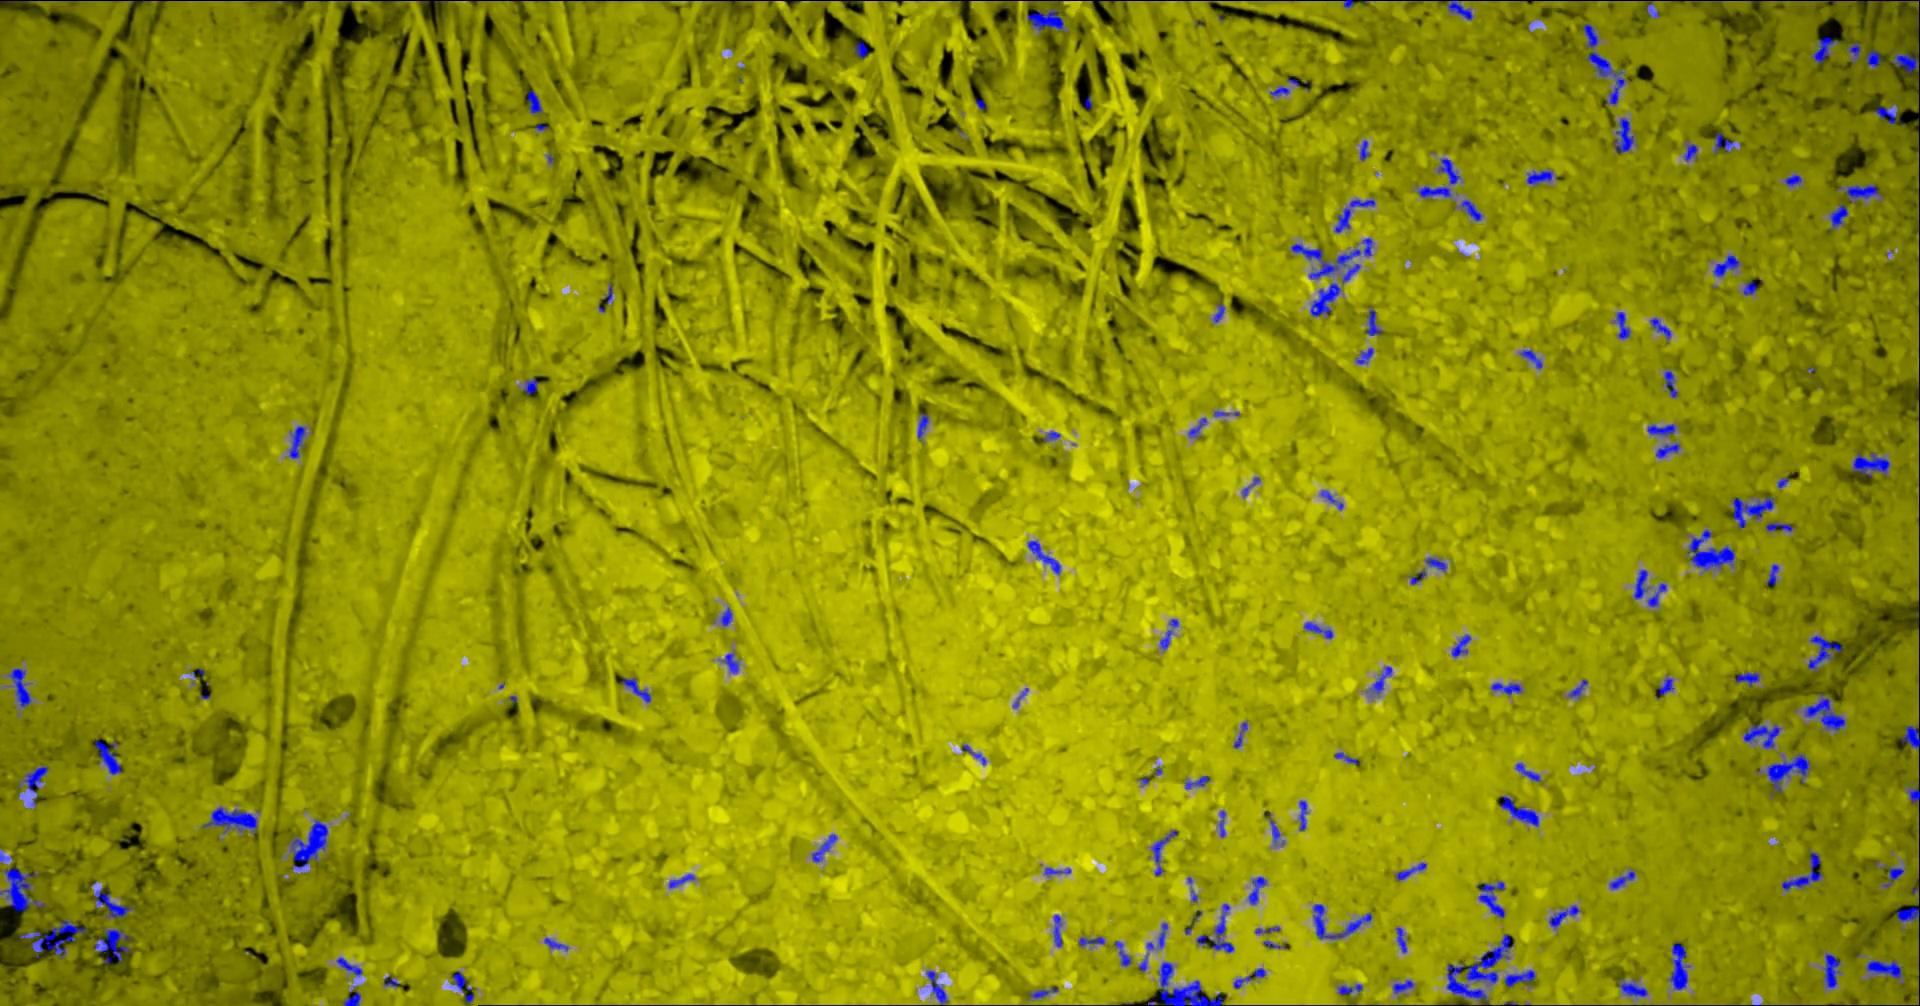ant: (1290, 238, 1371, 283), (1582, 23, 1625, 105), (18, 920, 85, 956), (1312, 903, 1371, 939), (1688, 528, 1735, 572), (0, 868, 44, 911), (290, 819, 328, 869), (1765, 754, 1810, 795), (1196, 903, 1233, 951), (1782, 851, 1822, 890), (1803, 694, 1845, 730), (202, 807, 257, 833), (1731, 495, 1774, 528), (1335, 199, 1375, 232), (1807, 635, 1843, 671), (94, 929, 130, 963), (1498, 795, 1538, 826), (91, 889, 133, 917), (1150, 829, 1176, 875), (1027, 540, 1060, 574), (1669, 941, 1690, 989), (1851, 451, 1890, 478), (1477, 880, 1503, 918), (1310, 282, 1340, 316), (1743, 723, 1780, 748), (94, 739, 121, 774), (8, 668, 30, 708), (450, 970, 474, 1005), (1027, 8, 1063, 30), (620, 677, 650, 702), (1837, 184, 1881, 202), (1548, 904, 1580, 929), (1865, 959, 1902, 979), (1812, 36, 1839, 64), (22, 765, 48, 793), (924, 970, 946, 1005), (1613, 117, 1633, 152), (1233, 967, 1265, 988), (1437, 0, 1473, 19), (1366, 666, 1390, 694), (811, 835, 836, 862), (1822, 951, 1840, 988), (1145, 922, 1167, 950), (1890, 53, 1919, 74), (1437, 158, 1460, 183), (1159, 619, 1178, 649), (1712, 255, 1738, 277), (1503, 969, 1535, 987), (288, 426, 305, 459), (1396, 862, 1426, 880), (1617, 978, 1647, 996), (1608, 870, 1636, 889), (1247, 876, 1266, 904), (1112, 940, 1131, 967), (1613, 311, 1630, 339), (1881, 865, 1903, 887), (1646, 583, 1666, 607), (1829, 203, 1848, 229), (1515, 762, 1540, 781), (1269, 813, 1284, 845), (1303, 621, 1332, 638), (1713, 131, 1735, 152), (1460, 199, 1482, 221), (717, 652, 739, 673), (1896, 901, 1919, 921), (1900, 725, 1919, 749), (961, 744, 985, 763), (337, 956, 361, 976), (1650, 318, 1670, 339), (1417, 185, 1451, 198), (1519, 349, 1542, 368), (1321, 490, 1343, 509), (1451, 634, 1470, 657), (1526, 170, 1557, 184), (1874, 105, 1896, 124), (1633, 569, 1647, 598), (1366, 309, 1382, 335), (668, 873, 695, 888), (1490, 682, 1521, 695), (1655, 442, 1679, 459), (1663, 370, 1677, 398), (1187, 417, 1206, 437), (1655, 678, 1674, 699), (1233, 721, 1247, 748), (1735, 671, 1759, 686), (342, 986, 361, 1005), (1647, 423, 1675, 436), (526, 90, 541, 113), (1029, 987, 1058, 998), (1183, 775, 1209, 788), (1051, 915, 1062, 946), (1425, 558, 1448, 572), (1907, 779, 1919, 807), (1355, 347, 1373, 365), (1568, 680, 1587, 696), (1211, 298, 1224, 323), (1333, 751, 1357, 763), (543, 937, 568, 950), (917, 413, 928, 439), (1846, 41, 1860, 62), (1392, 979, 1413, 993), (853, 39, 869, 58), (1337, 983, 1363, 995), (522, 377, 538, 394), (1765, 521, 1792, 531), (1766, 563, 1778, 586), (1298, 800, 1307, 829), (1078, 936, 1103, 946), (1643, 0, 1658, 17), (1865, 50, 1879, 67), (1683, 144, 1697, 161), (1396, 927, 1406, 951), (719, 607, 731, 626), (1742, 279, 1756, 295), (1410, 570, 1425, 584), (1359, 140, 1369, 160), (1783, 174, 1801, 185), (1255, 926, 1279, 934), (1269, 86, 1289, 95), (1219, 810, 1225, 837), (1044, 868, 1070, 874), (1043, 431, 1059, 441)
